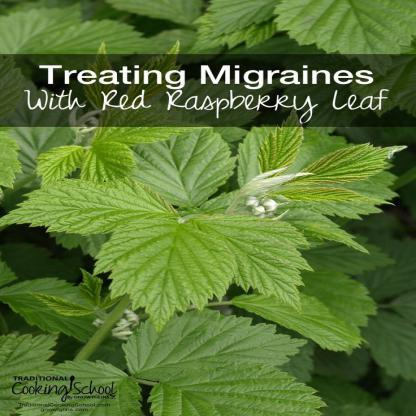Raspberry leaf: (92, 210, 315, 338), (1, 174, 178, 238), (282, 140, 412, 187), (272, 182, 390, 214), (257, 104, 308, 174)
